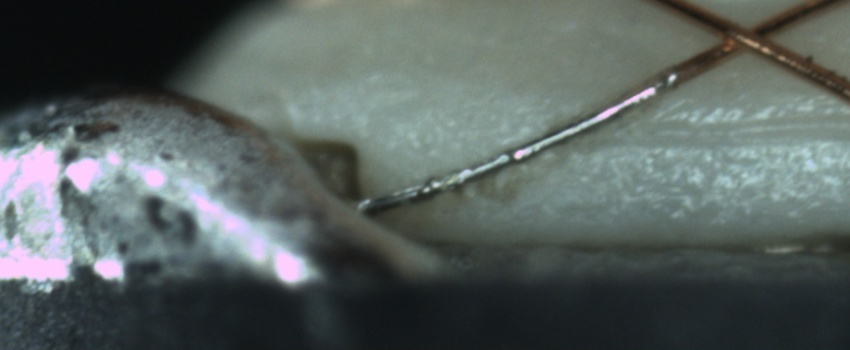CL: (694, 5, 789, 65)
DL: (544, 103, 850, 167)
TS: (354, 72, 670, 216)
